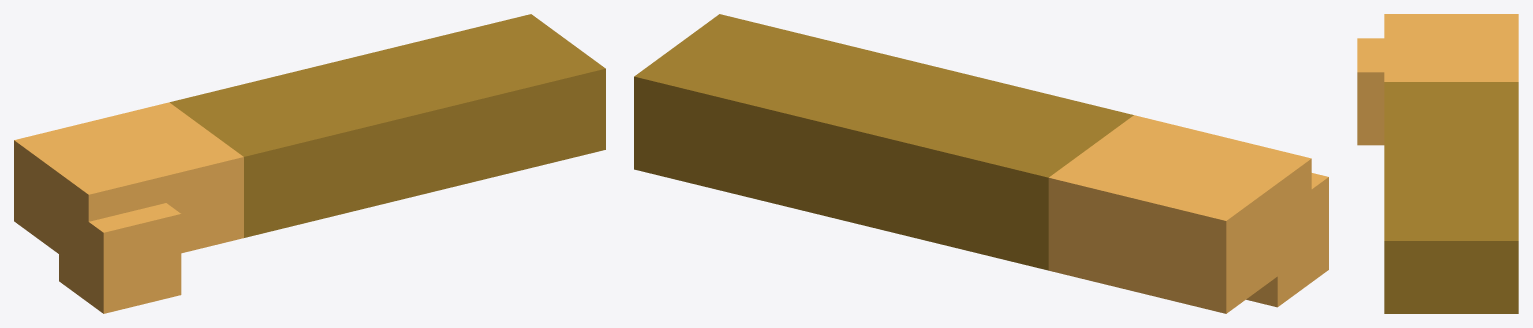
File: hitler-3.obj
3 renders of one model, left to right at view 1: azimuth 30°, elevation 25°; view 2: azimuth 150°, elevation 25°; view 3: azimuth 270°, elevation 25°, orthographic. The views are drawn at different scales.
Size of the model in its own units: 2 by 0.4 by 0.6.
Materials: 1 (1 with a texture image).
